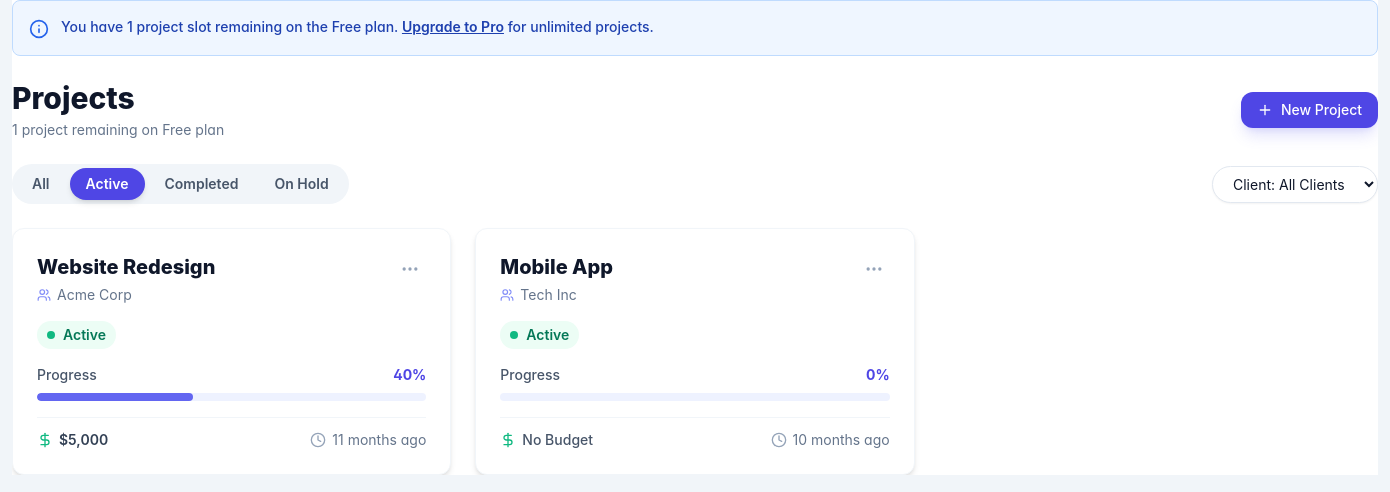
Test case: ProjectsPage › Projects List › should filter by On Hold status
// Click "On Hold" tab
What coordinates should you click on to do the following:
click the button "On Hold"
I would click on:
 (302, 184)
Its box is [258,168,345,200].
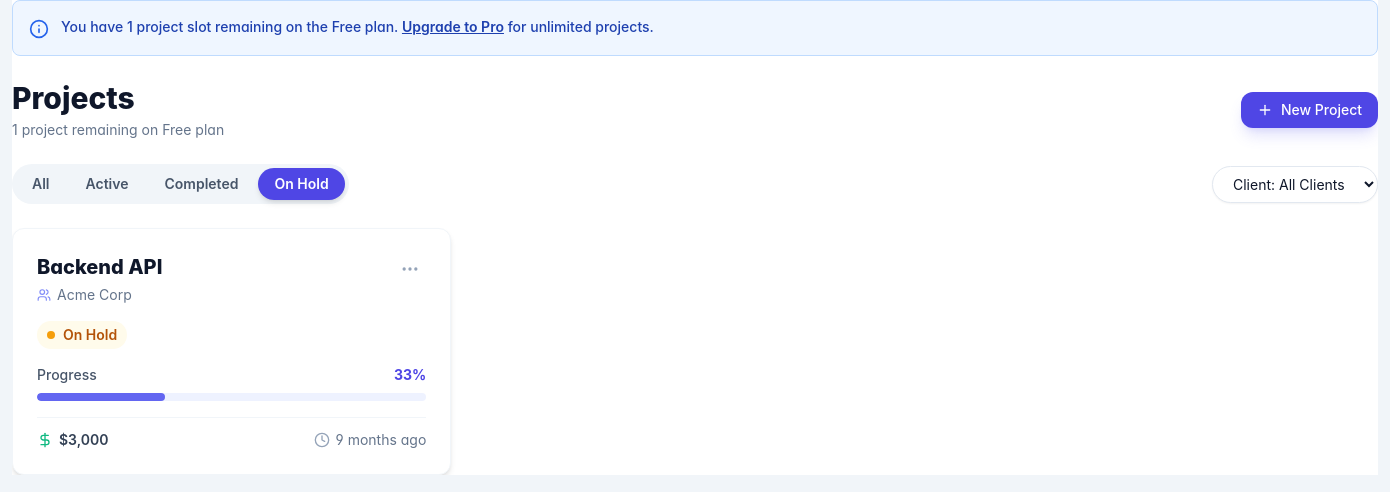
Now the heading "Website Redesign" is gone
Now the heading "Mobile App" is gone
Now the heading "Backend API" is shown, box [37,253,162,281]
